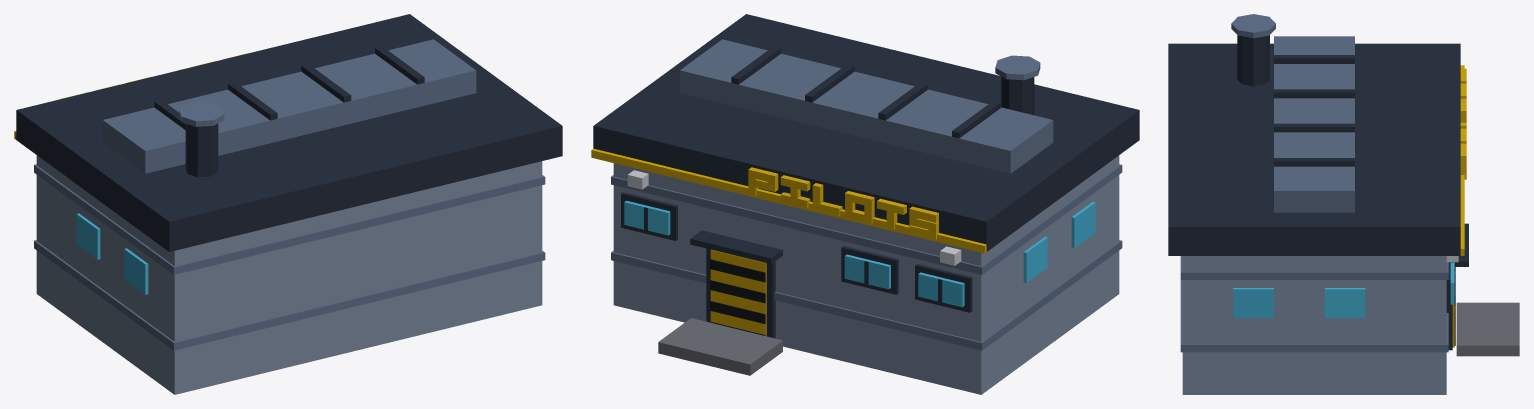
The model's file is Decor_MechaHangar_Barracks.fbx.
3 views of the same model, side by side, from view 1: azimuth 30°, elevation 25°; view 2: azimuth 150°, elevation 25°; view 3: azimuth 270°, elevation 25° (orthographic). The views are drawn at different scales.
Parts seen in each view (by area): view 1: Barracks_Body; view 2: Barracks_Body; view 3: Barracks_Body.
Boxes of the visible parts, x1=… form: Barracks_Body: x1=14, y1=14, x2=562, y2=394; Barracks_Body: x1=591, y1=14, x2=1139, y2=394; Barracks_Body: x1=1168, y1=14, x2=1519, y2=394.
Bounding box in the file's own units: 21.4 × 12.5 × 17.3.
